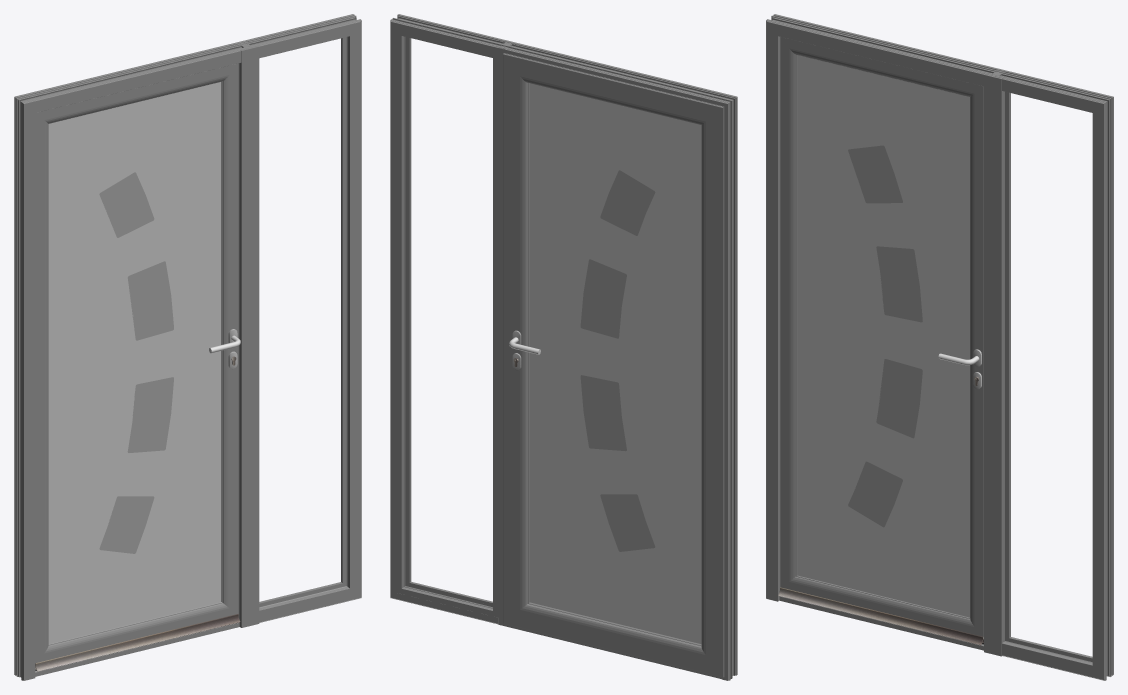
The picture shows the model from 3 angles, left to right: view 1: azimuth 30°, elevation 25°; view 2: azimuth 150°, elevation 25°; view 3: azimuth 330°, elevation 25°; orthographic projection.
Parts seen in each view (by area): view 1: fosco_23, aroFixo, aroMovel, montanteCentral, transparente_23, bite, borracha, escovas, rodaPe; view 2: fosco_23, aroMovel, aroFixo, transparente_23, bite, montanteCentral, borracha, rodaPe; view 3: fosco_23, aroFixo, aroMovel, montanteCentral, transparente_23, bite, escovas, borracha, rodaPe.
Boxes of the visible parts, x1,y1,x2,y2 form: fosco_23: (48, 82, 221, 643); aroFixo: (14, 14, 361, 680); aroMovel: (35, 63, 238, 663); montanteCentral: (238, 42, 259, 627); transparente_23: (99, 172, 173, 553); bite: (259, 37, 346, 607); borracha: (259, 37, 345, 606); escovas: (35, 614, 240, 671); rodaPe: (35, 622, 239, 676); fosco_23: (529, 83, 701, 644); aroMovel: (503, 53, 724, 677); aroFixo: (390, 14, 737, 680); transparente_23: (580, 170, 655, 551); bite: (396, 29, 498, 617); montanteCentral: (498, 40, 518, 626); borracha: (404, 36, 492, 608); rodaPe: (505, 624, 721, 679); fosco_23: (797, 55, 969, 617); aroFixo: (766, 14, 1113, 680); aroMovel: (780, 37, 983, 638); montanteCentral: (984, 70, 1004, 656); transparente_23: (848, 145, 922, 527); bite: (1005, 91, 1092, 661); escovas: (778, 587, 983, 645); borracha: (1006, 92, 1092, 660); rodaPe: (779, 596, 983, 650).
Size of the model in its own units: 1320 by 2149 by 185.
10 materials, 4 textured.
